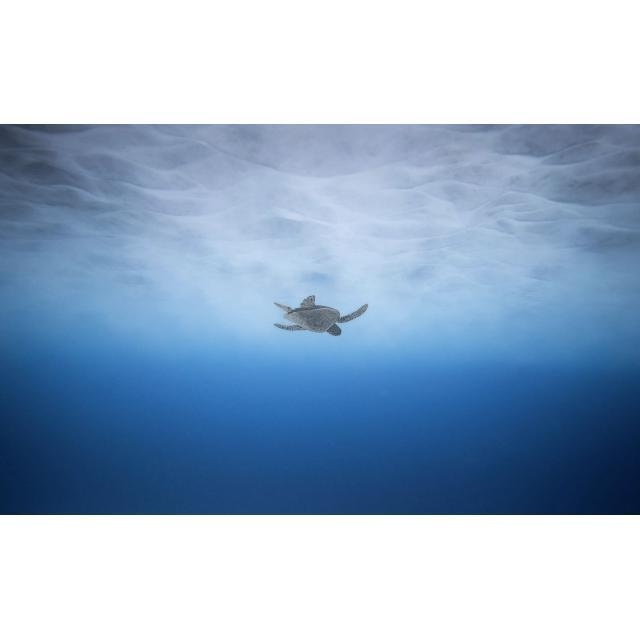turtle: (270, 294, 369, 338)
